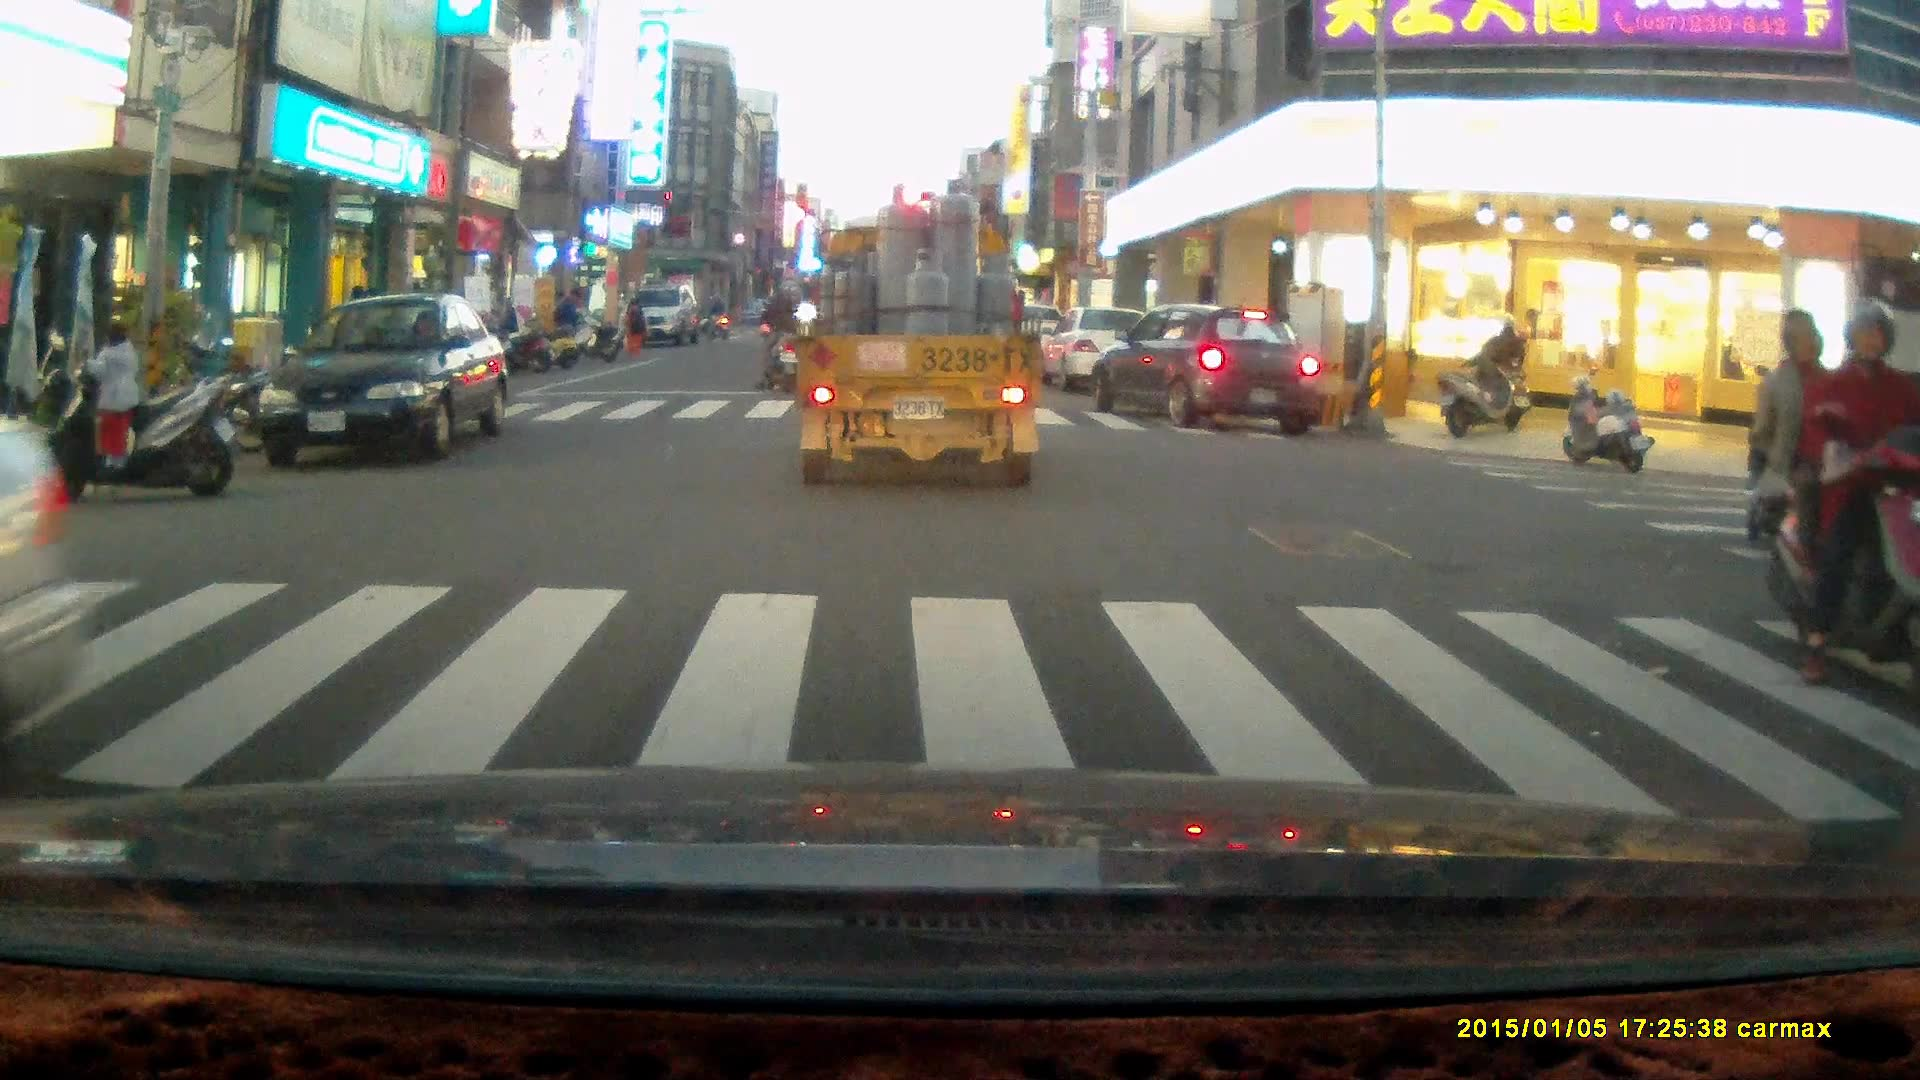pedestrian: (80, 319, 141, 469), (553, 285, 582, 353), (623, 296, 645, 356)
rider: (1757, 292, 1920, 698), (750, 265, 809, 392), (1475, 310, 1532, 430)
vehicle: (790, 176, 1046, 488), (260, 293, 509, 465), (1, 410, 95, 727), (1088, 306, 1318, 432), (1039, 307, 1171, 398), (619, 280, 696, 342)
